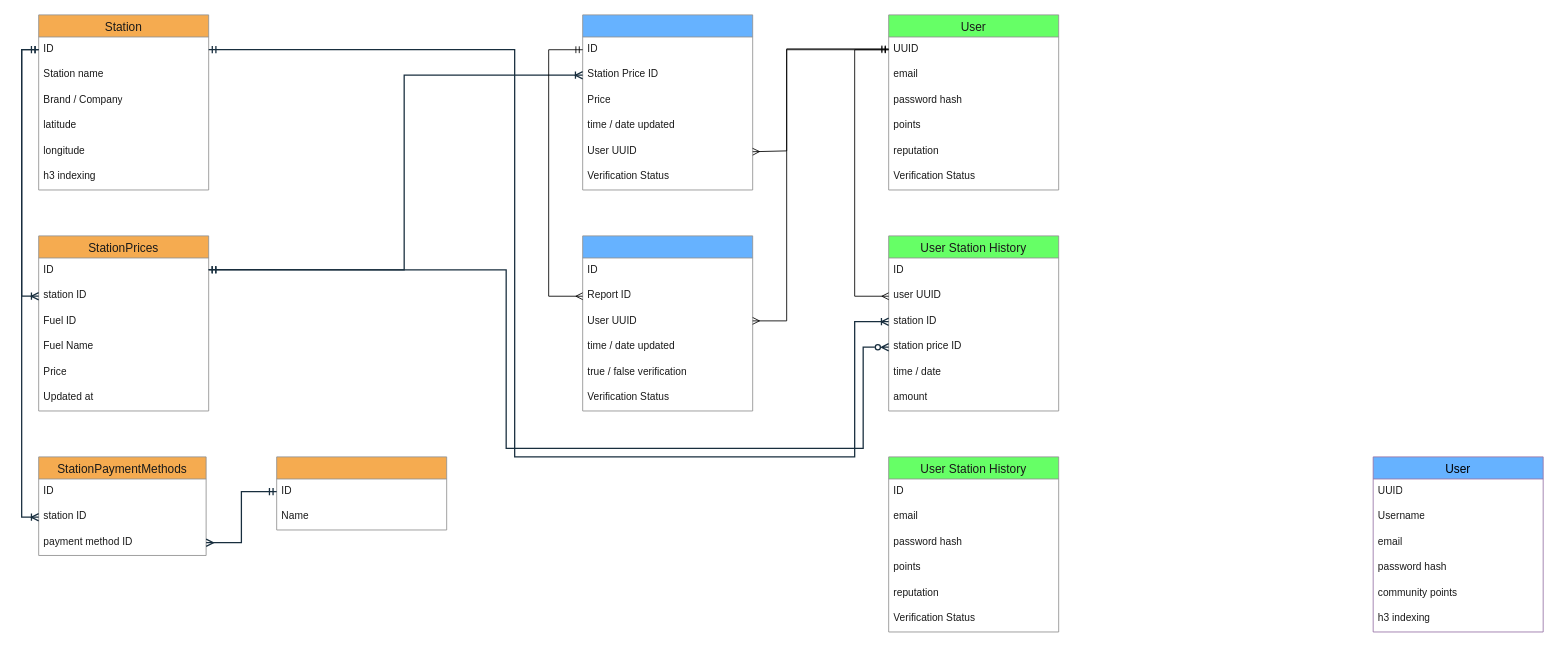
Some shapes in this 1559 by 649 pixel diagram are drawn without their labels. Each missing label, with the box of its shape:
PaymentMethods: (276, 456, 447, 530)
Report: (582, 14, 753, 190)
Report Verification: (582, 235, 753, 411)
